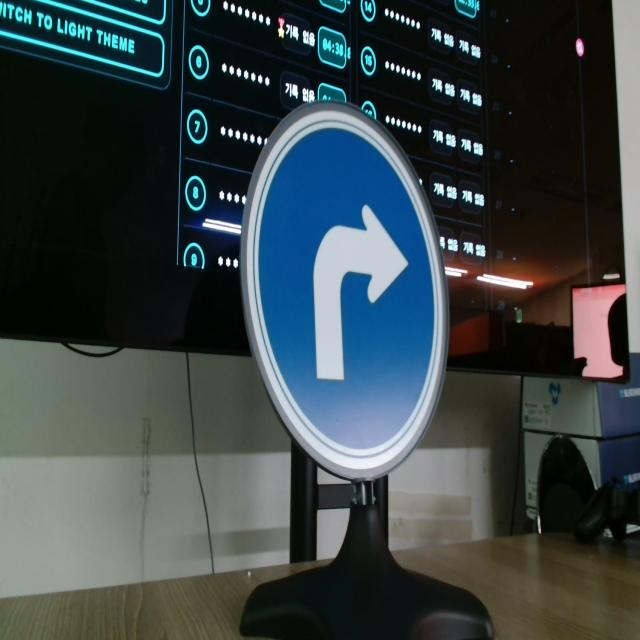right_dierection: (244, 104, 451, 468)
